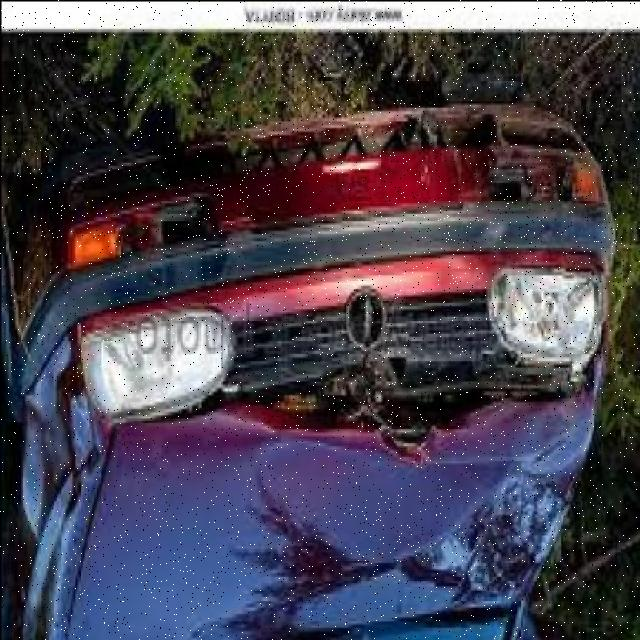damage: (114, 344, 606, 472), (212, 106, 588, 212), (12, 345, 95, 533)
